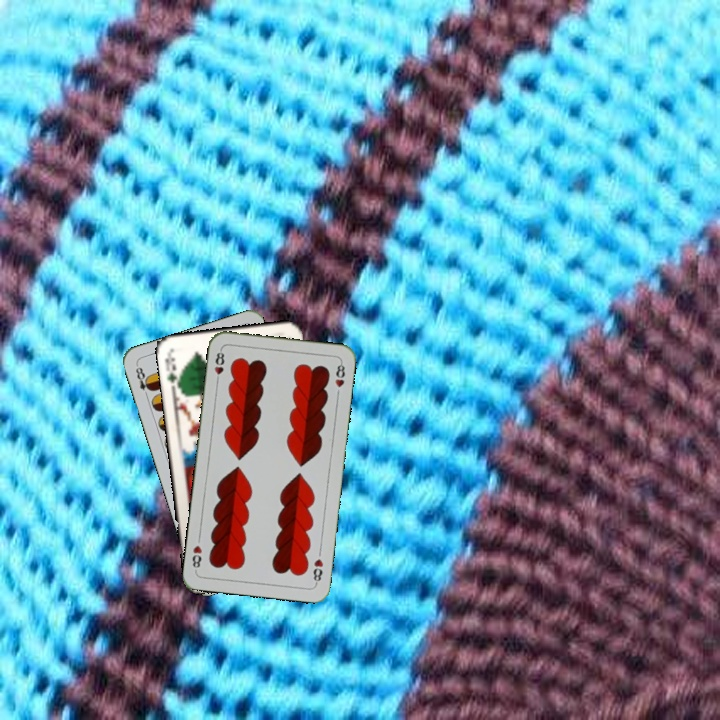E8: (131, 361, 155, 401)
GK: (161, 349, 184, 390)
H8: (210, 345, 227, 386), (309, 555, 326, 587)
